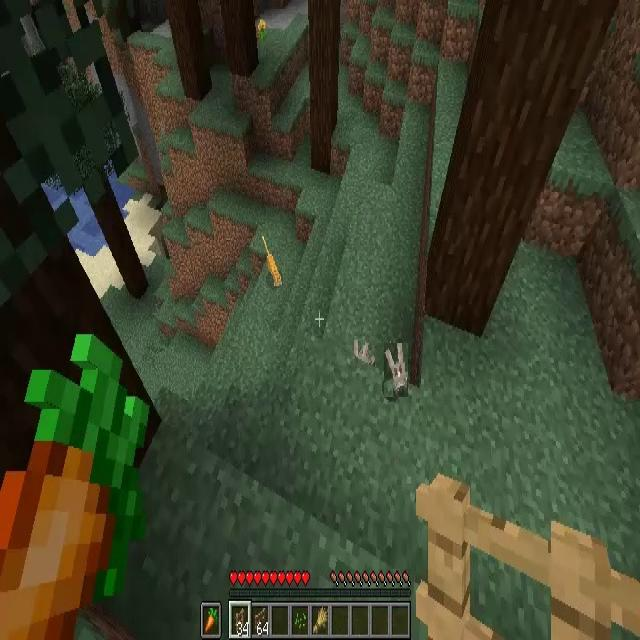rabbit: (384, 343, 408, 397)
